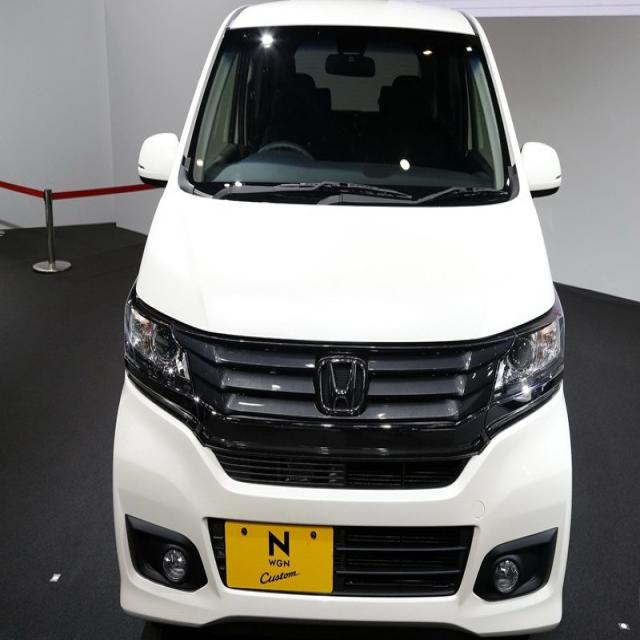front_bumper: (112, 376, 572, 631)
front_glass: (184, 26, 514, 208)
front_left_side_light: (492, 313, 566, 413)
front_left_side_mirror: (518, 140, 565, 203)
front_right_side_light: (123, 286, 200, 416)
front_right_side_mirror: (134, 130, 180, 194)
